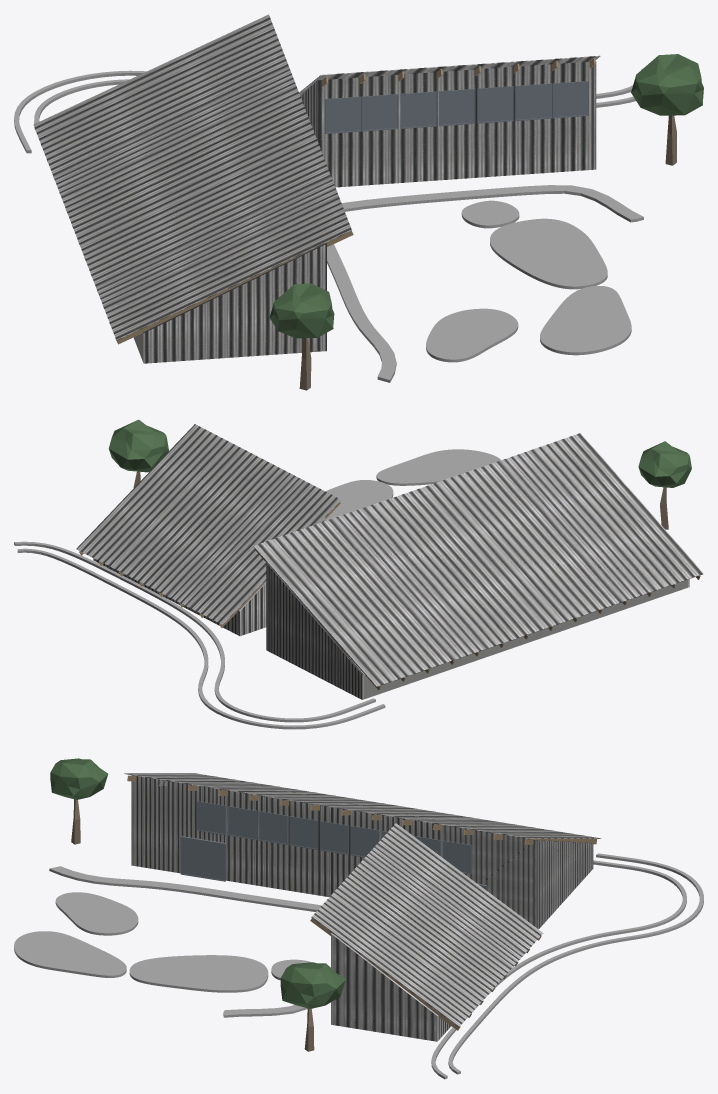
The picture shows the model from 3 angles, top to bottom: view 1: azimuth 30°, elevation 25°; view 2: azimuth 150°, elevation 25°; view 3: azimuth 270°, elevation 25°; orthographic projection. The views are drawn at different scales.
Parts seen in each view (by area): view 1: Model; view 2: Model; view 3: Model.
Boxes of the visible parts, bbox=[...] form: Model: bbox=[14, 14, 703, 390]; Model: bbox=[14, 419, 703, 729]; Model: bbox=[14, 758, 703, 1079].
Size of the model in its own units: 4.7 by 0.8081 by 4.8.
6 materials, 1 textured.
